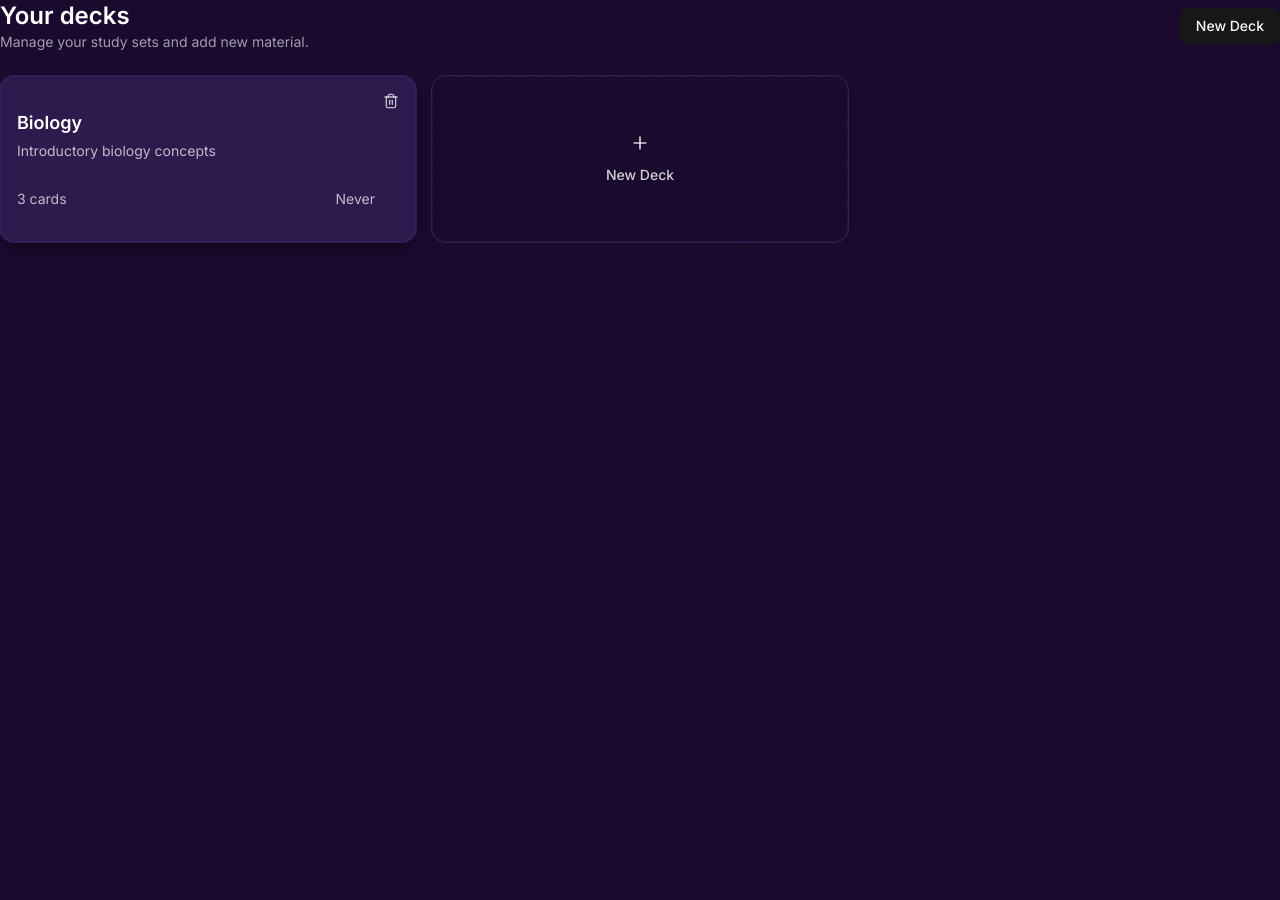
Test: DashboardPage › deletes a deck and refreshes the list
expect the heading "Biology" is shown: met, box 17,112 -> 82,133
What coordinates should you click on to do the following:
click the button named "delete biology"
I would click on:
 (391, 101)
Its box is 375,85 -> 407,117.
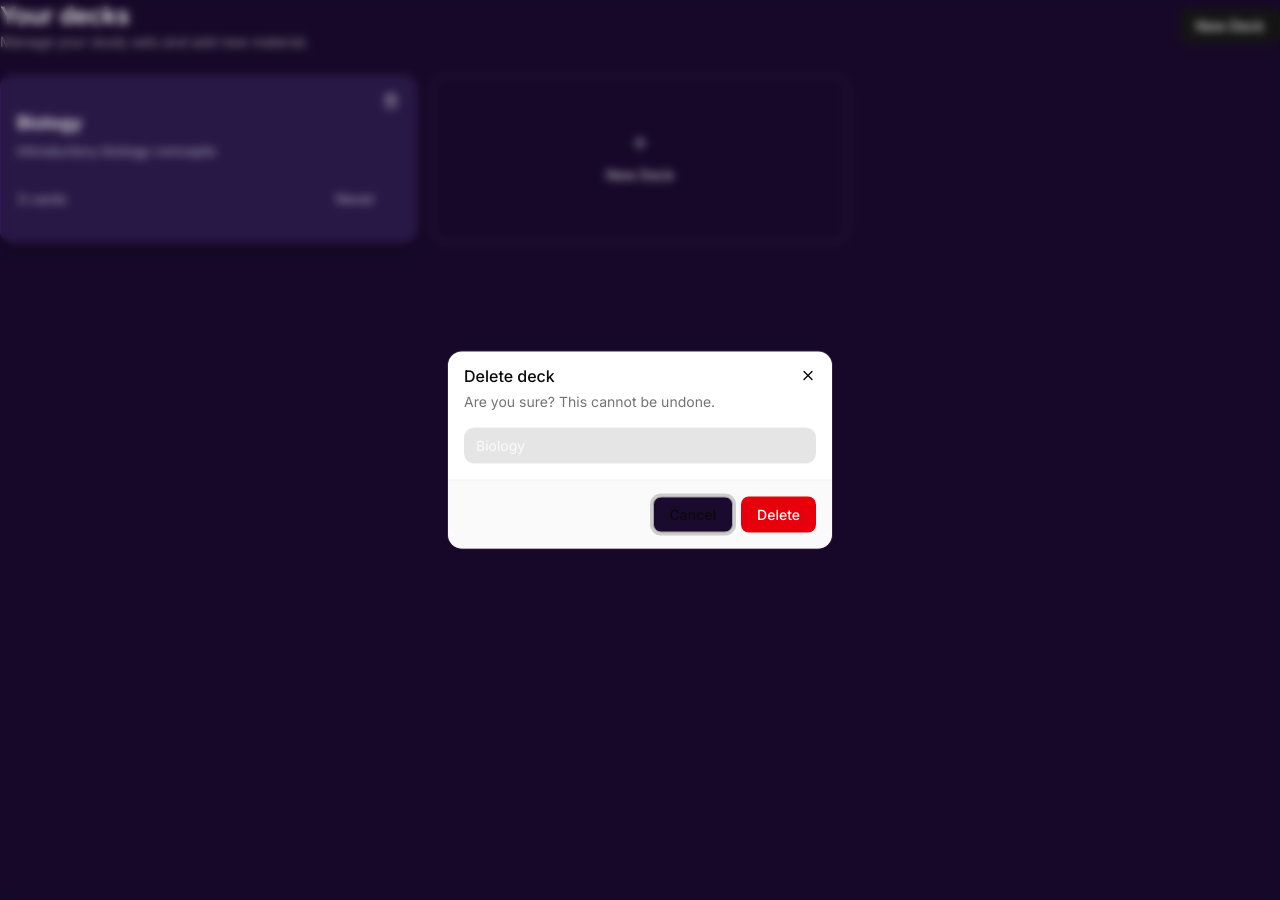
What coordinates should you click on to do the following:
click the button "Delete"
I would click on:
 (779, 514)
Its box is 741,496 -> 816,532.
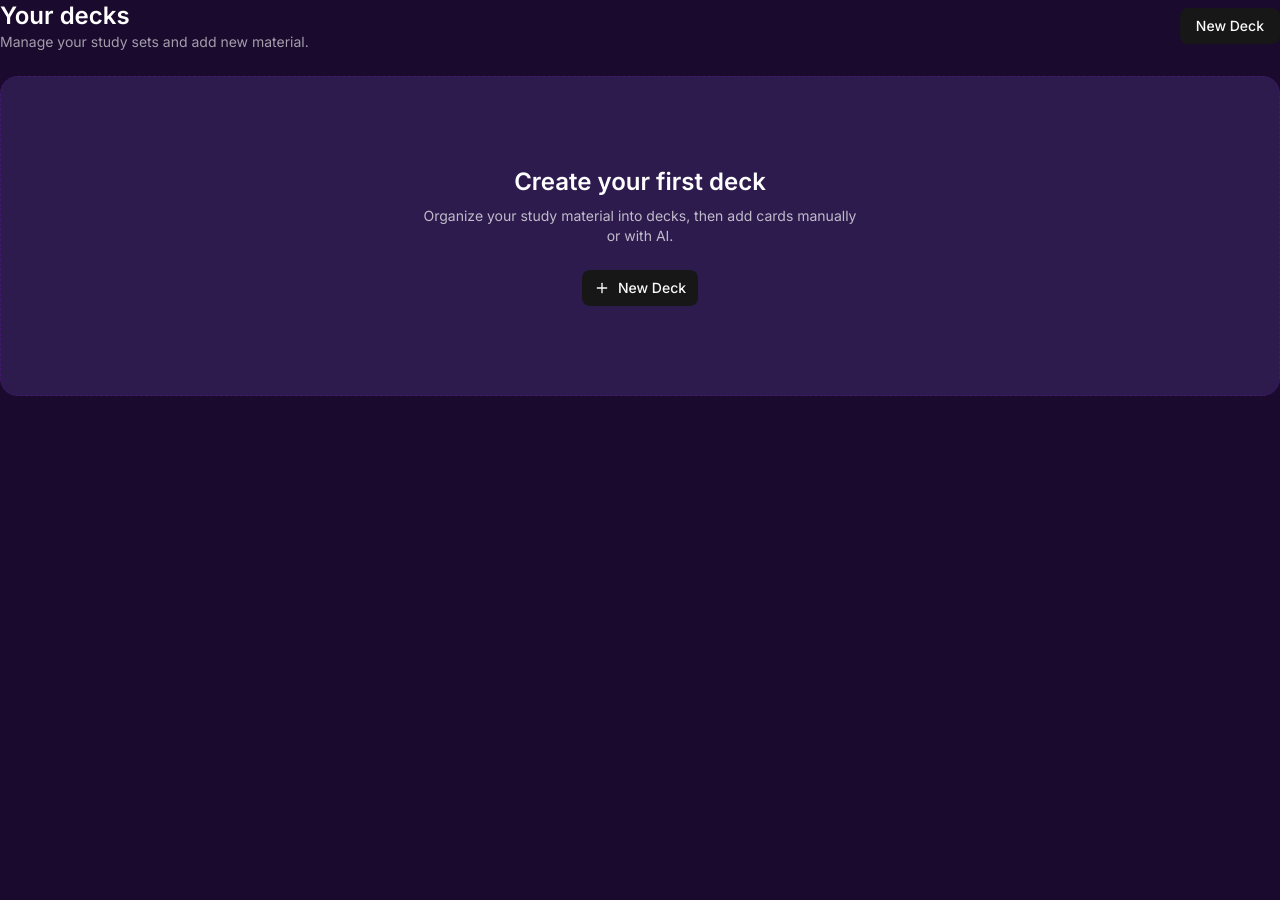
expect the heading "Create your first deck" is shown: met, box 514,166 -> 766,198
